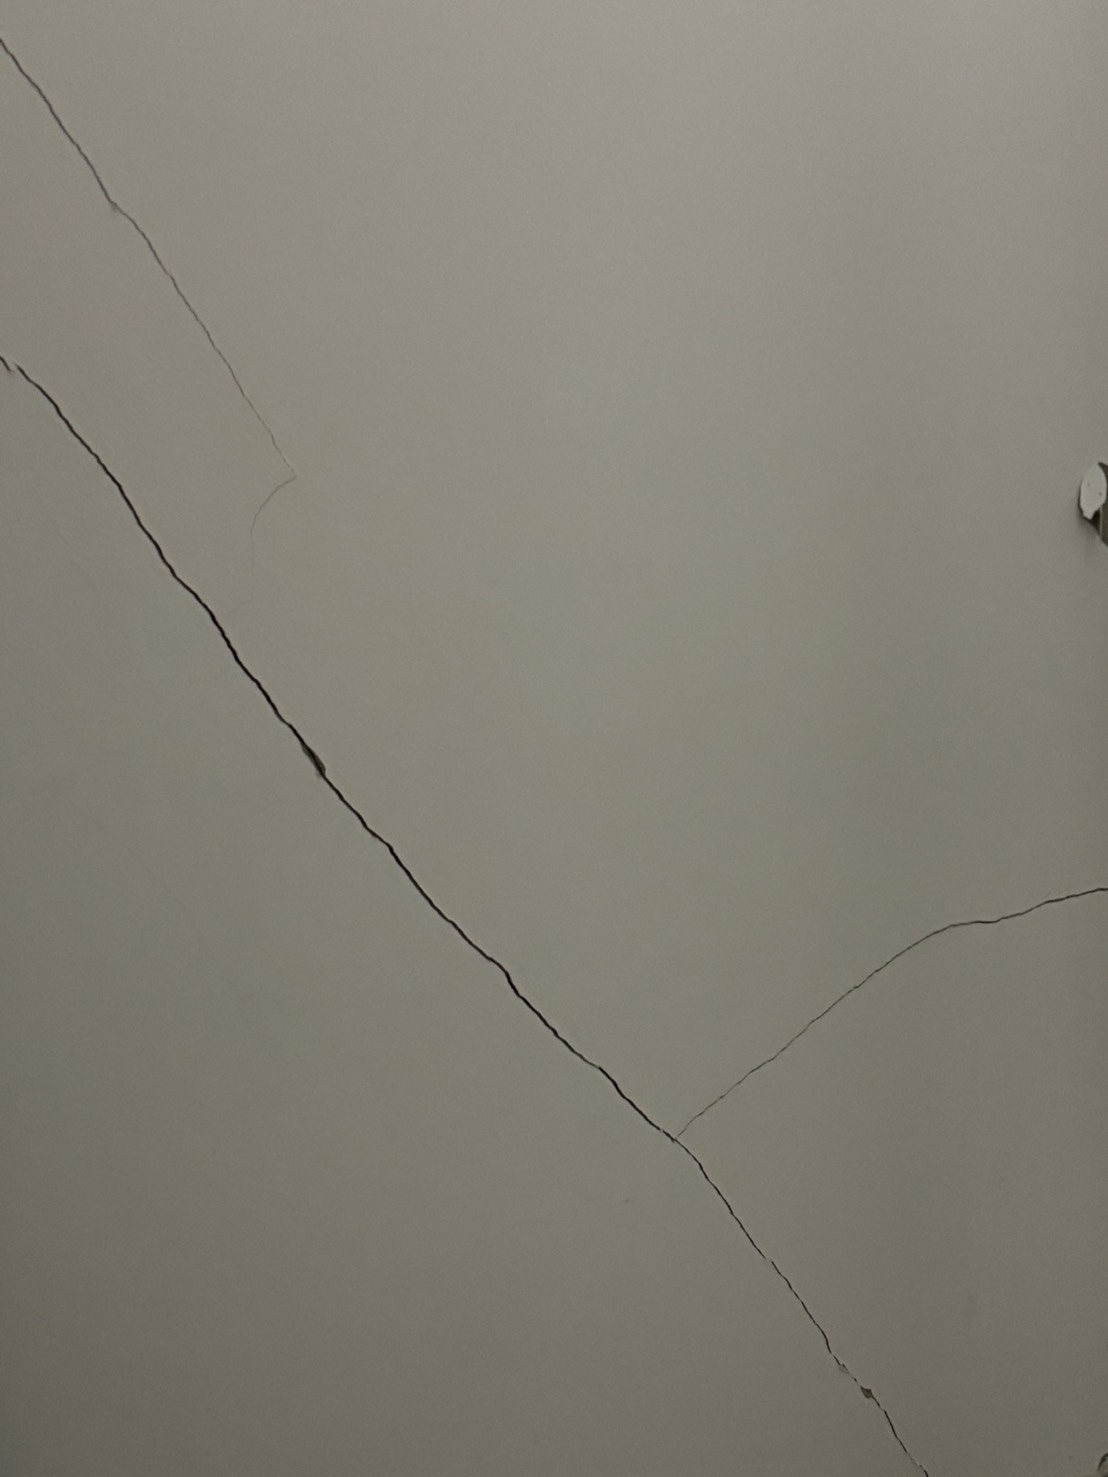Low: (1, 17, 1108, 1477)
